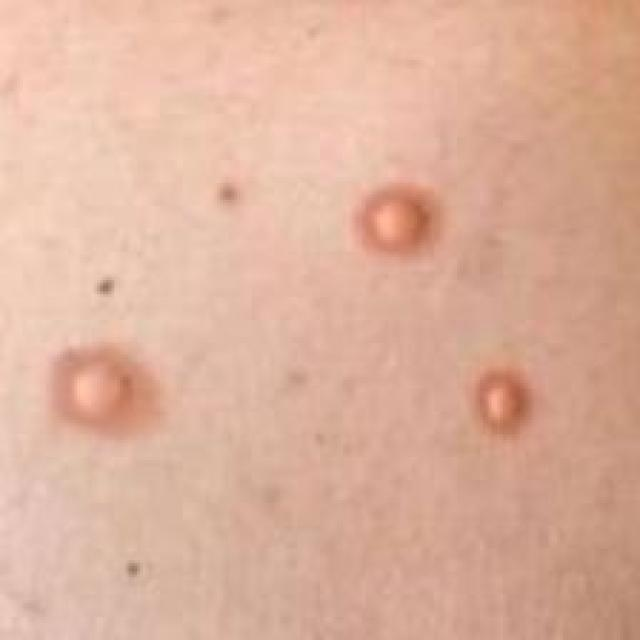monkeypox: (0, 84, 573, 592)
